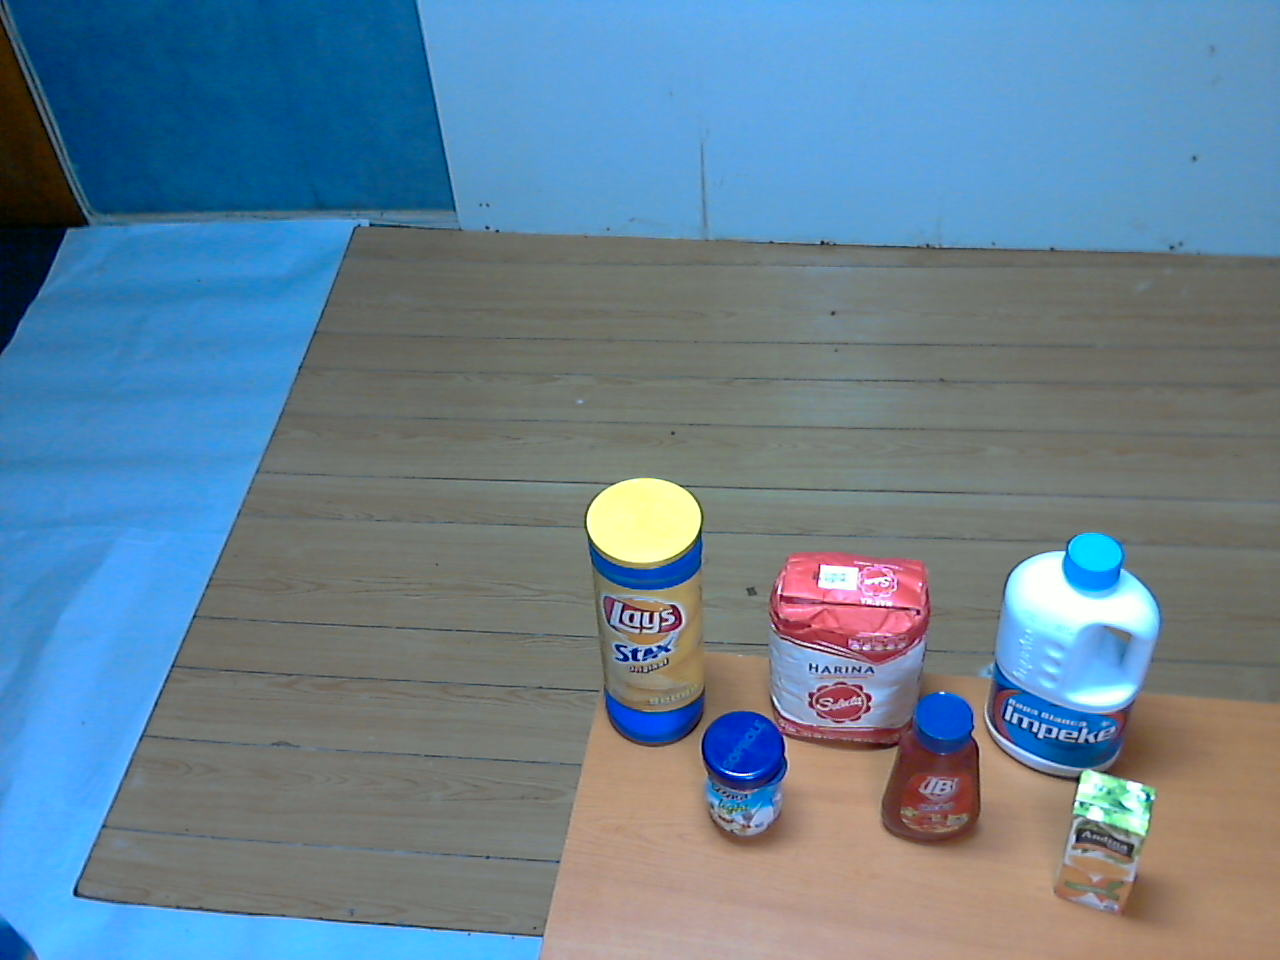cloro: (978, 529, 1162, 793)
crema: (688, 704, 795, 850)
harina: (763, 545, 935, 757)
jugoind: (1052, 760, 1164, 919)
ketchup: (878, 688, 992, 866)
papas: (579, 470, 713, 754)
